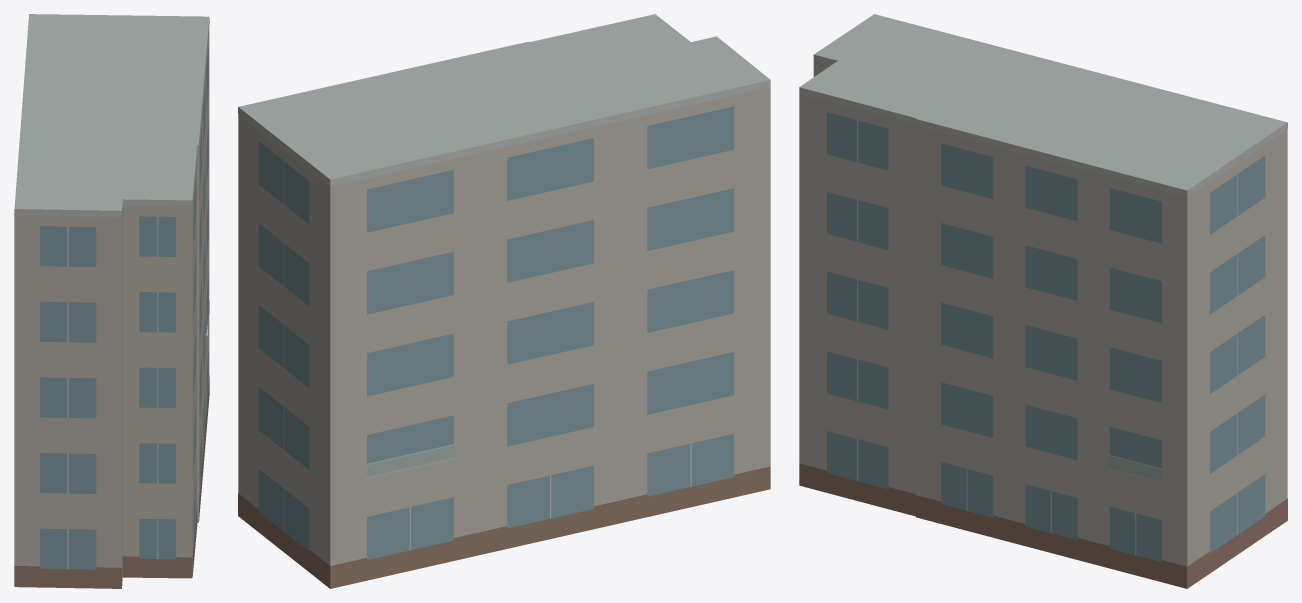
Rendered from survey-upis-32947978.glb.
3 views of the same model, side by side, from view 1: azimuth 30°, elevation 25°; view 2: azimuth 150°, elevation 25°; view 3: azimuth 270°, elevation 25° (orthographic). The views are drawn at different scales.
Visible parts, largest first — view 1: survey-upis-32947978.tmp; view 2: survey-upis-32947978.tmp; view 3: survey-upis-32947978.tmp.
Boxes of the visible parts, x1=… form: survey-upis-32947978.tmp: x1=14, y1=14, x2=209, y2=588; survey-upis-32947978.tmp: x1=238, y1=14, x2=770, y2=588; survey-upis-32947978.tmp: x1=799, y1=14, x2=1287, y2=588.
Bounding box in the file's own units: 13.6 × 14.3 × 15.9.
